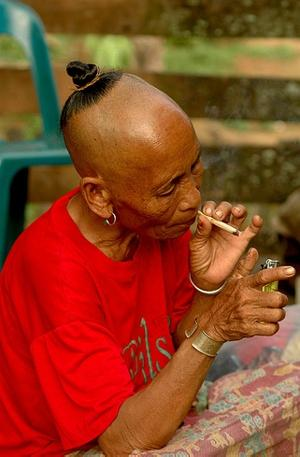person: (2, 63, 296, 457)
